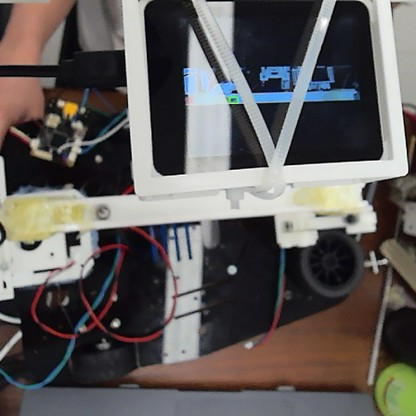ironball: (93, 204, 111, 220)
